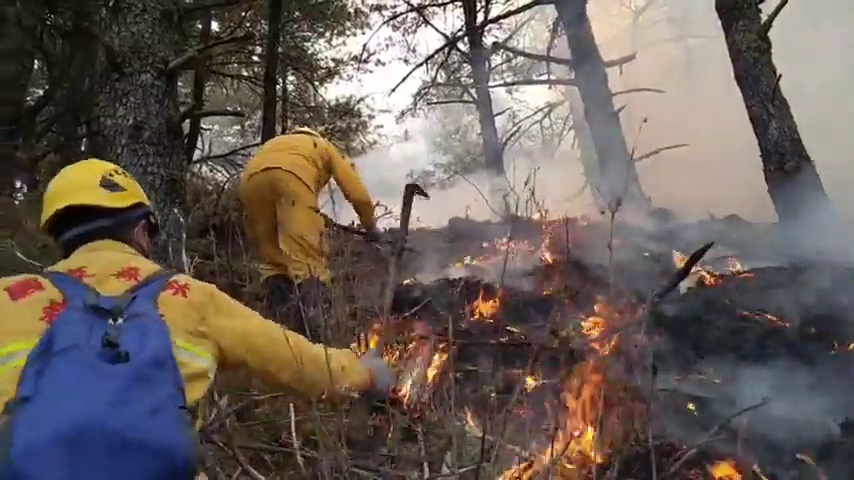fire: (563, 376, 596, 450), (712, 459, 739, 480), (582, 316, 604, 338), (476, 299, 497, 319), (427, 354, 441, 379), (543, 231, 552, 261)
